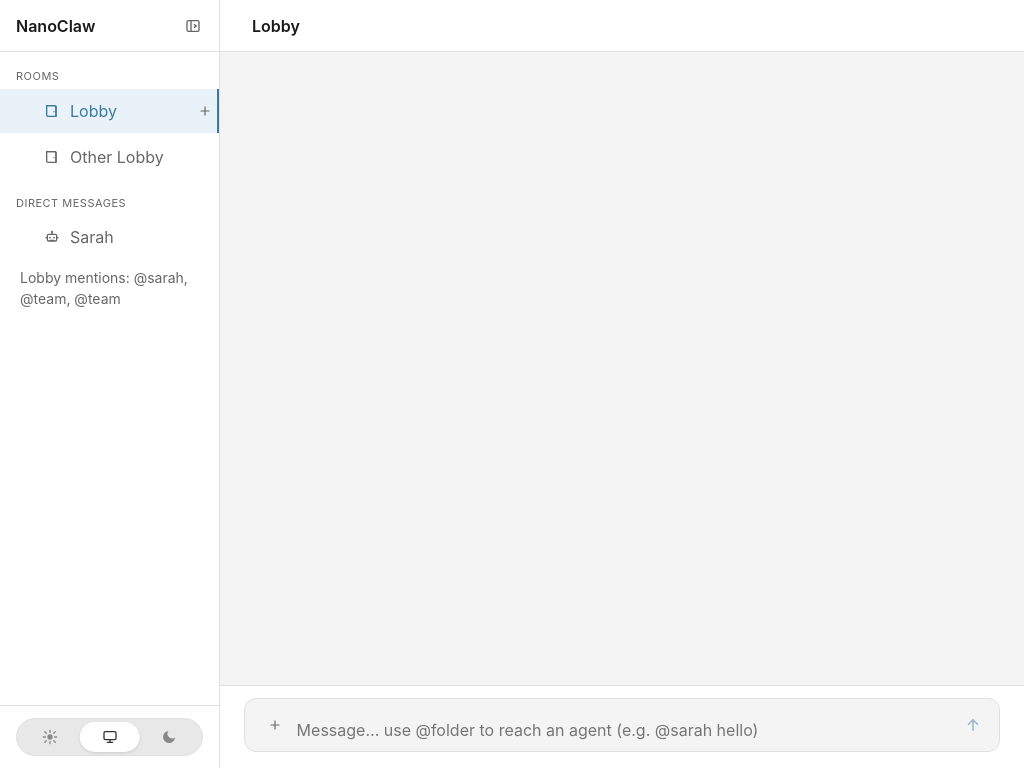
Test: App › does not track engaged agents when sending in a DM
Expected: the heading "Lobby" is shown, [252,14,300,38]
Click the button "Sarah".
click(110, 237)  # box [28,215,193,259]
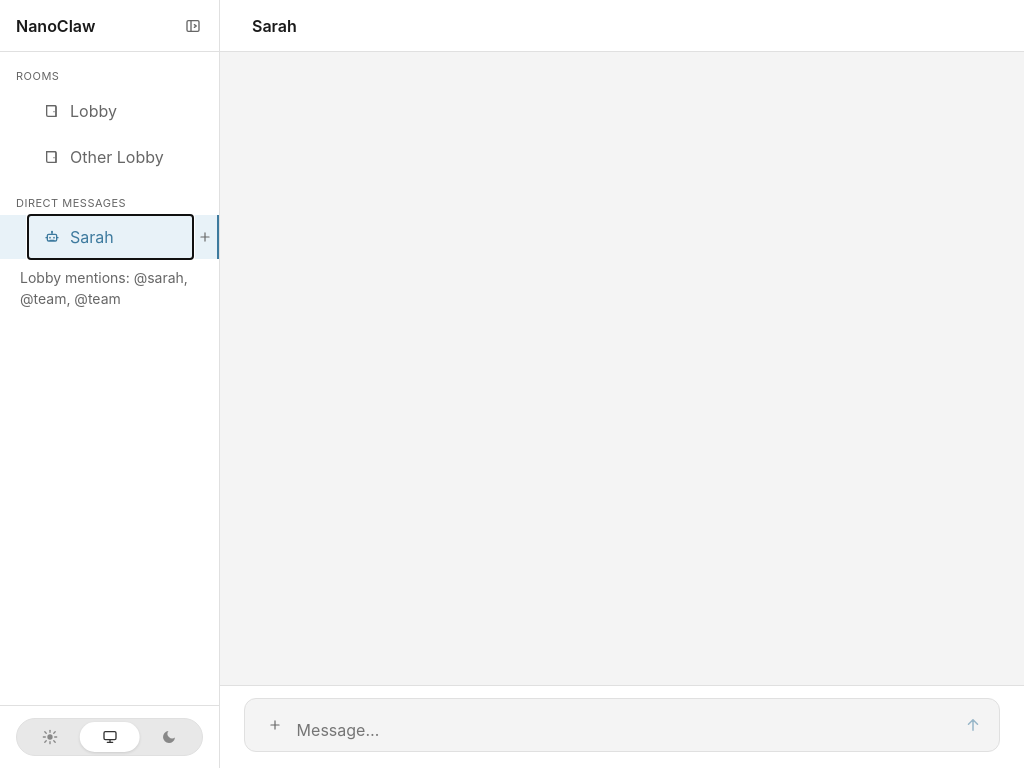
Type "@sarah direct hello" into the text box.
click(624, 730); type("@sarah direct hello")  # box [297,719,951,741]
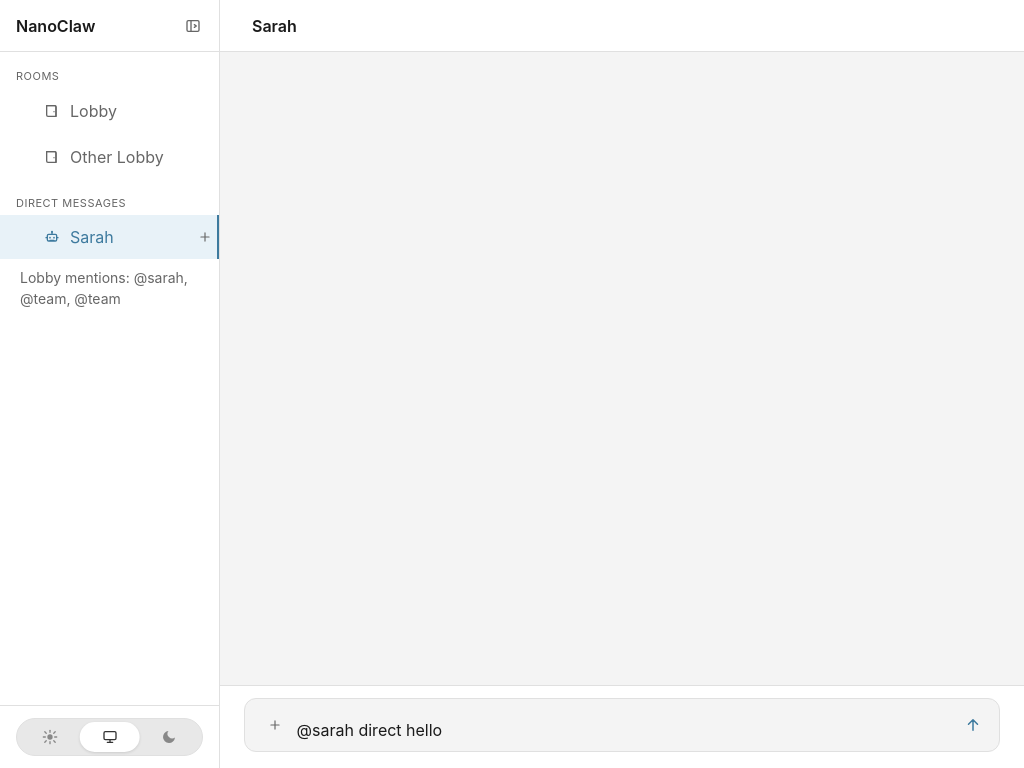
Click the button named "Send message".
click(973, 725)  # box [957,709,989,741]
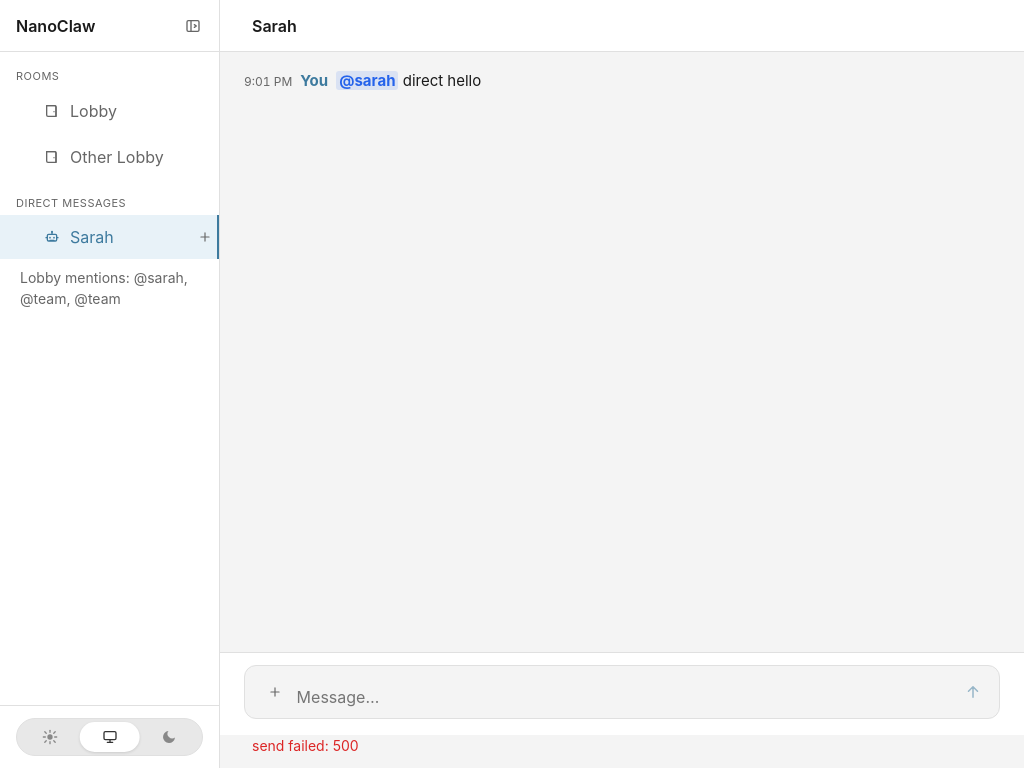
Now the text "send failed: 500" is shown, box [252,737,359,754]
